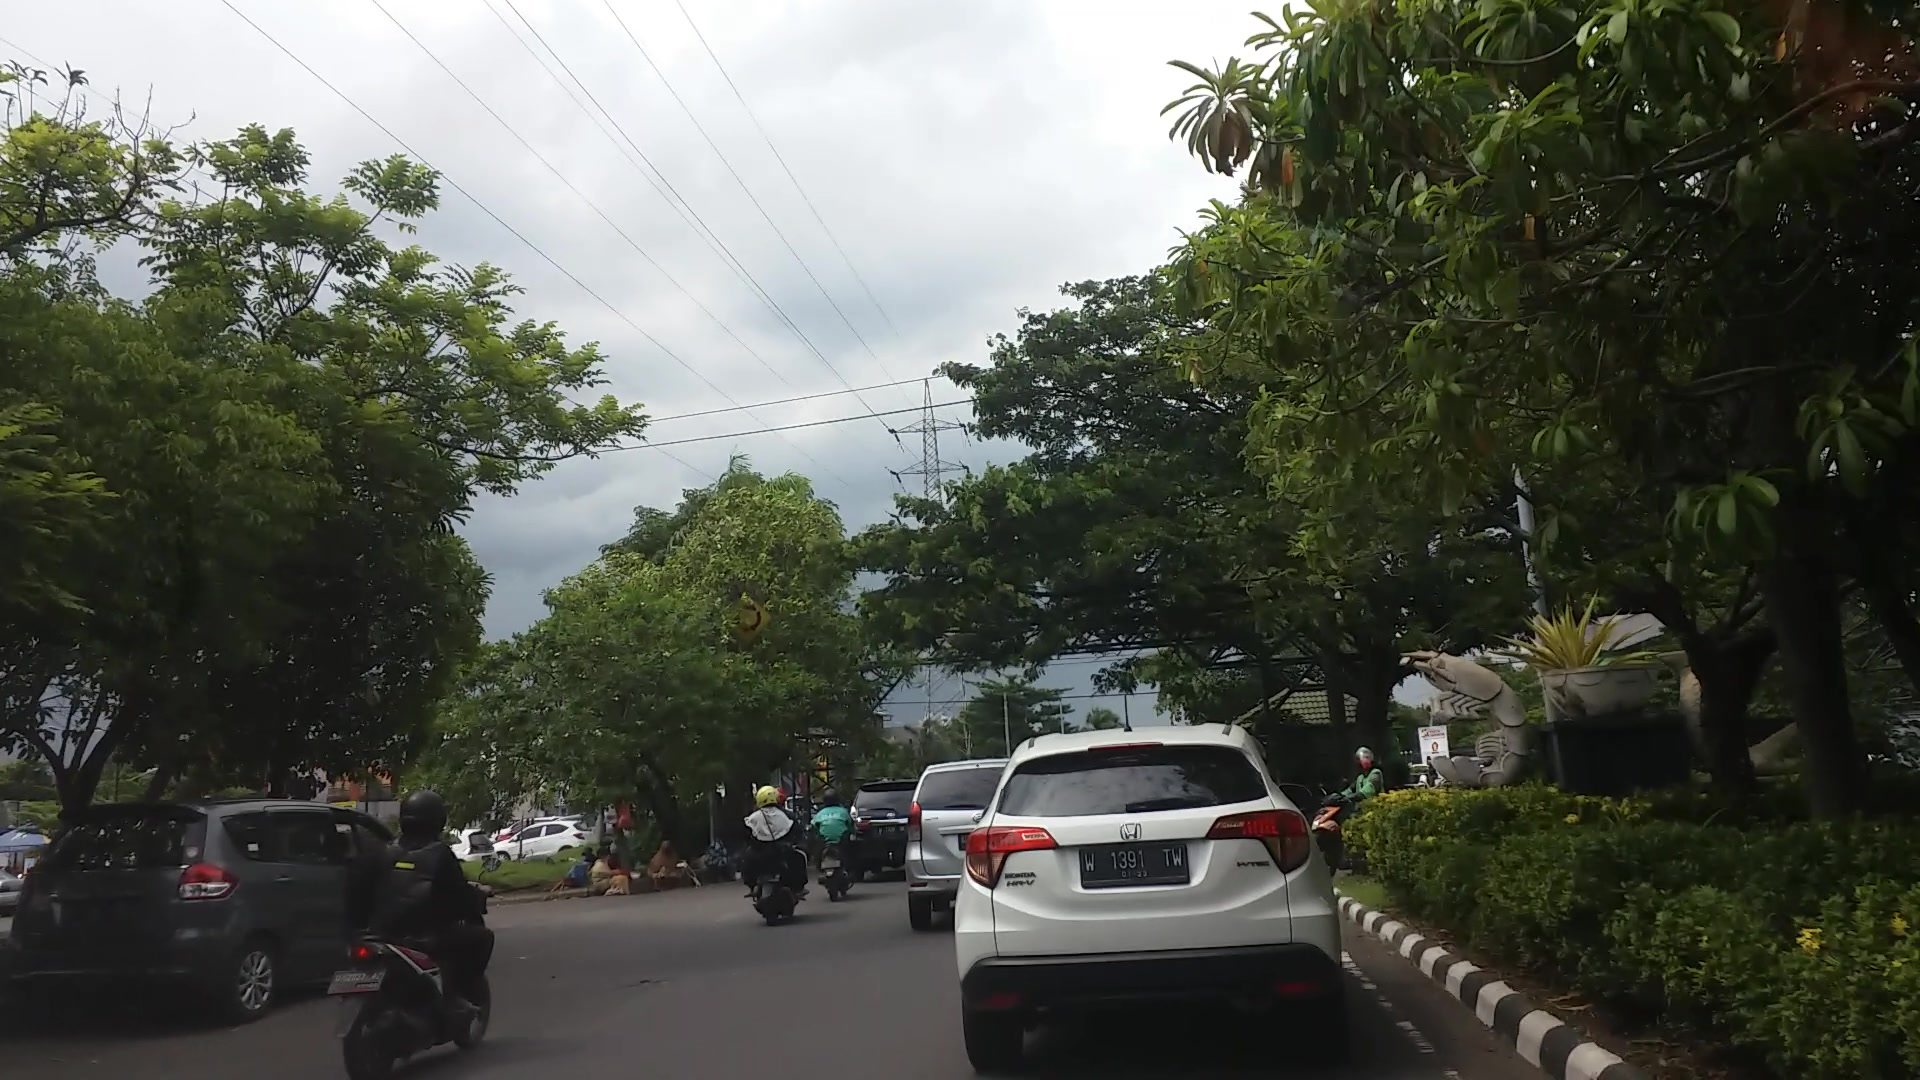plate_positive: (1080, 844, 1189, 886)
